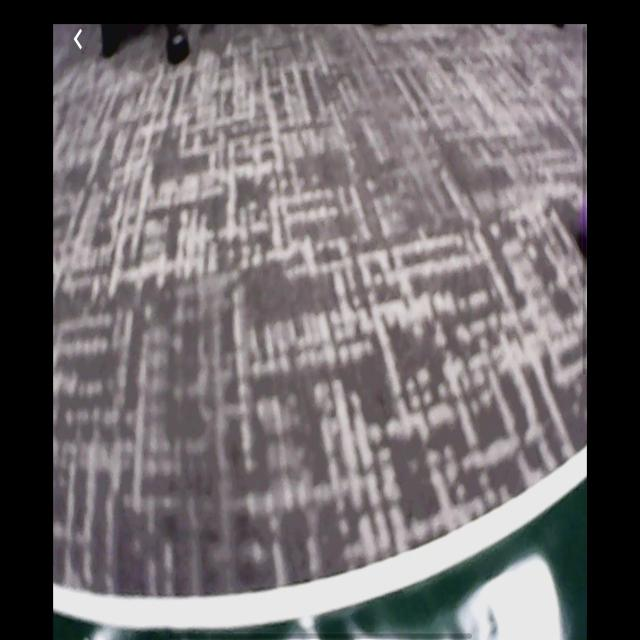ball: (578, 200, 588, 246)
